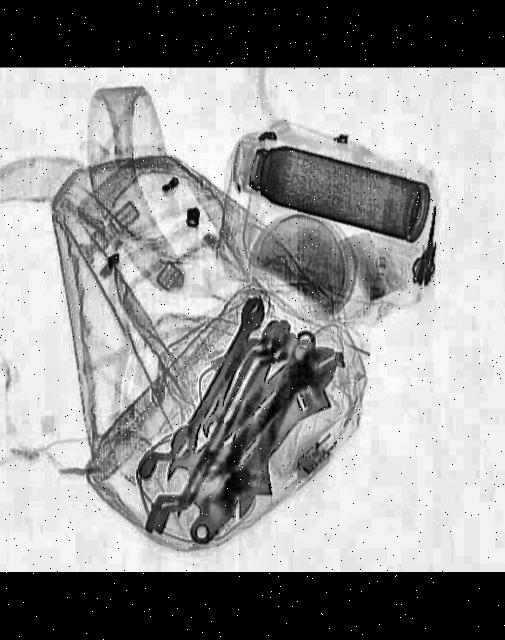Wrench: (174, 336, 362, 555), (180, 294, 273, 441), (158, 417, 245, 494)
